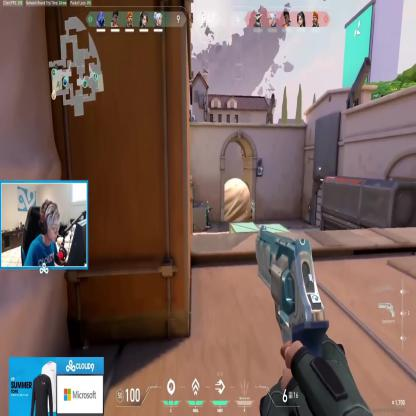enemy: (248, 203, 254, 221)
enemy_head: (251, 202, 254, 207)
